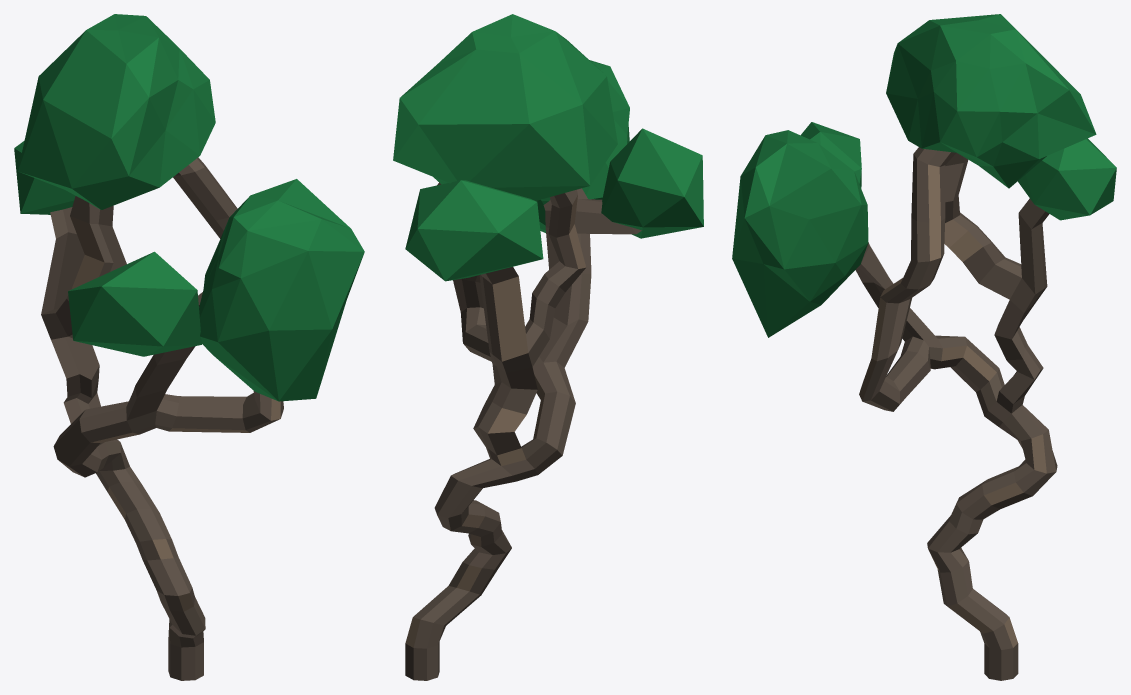
The model's file is tree2.fbx.
The picture shows the model from 3 angles, left to right: view 1: azimuth 30°, elevation 25°; view 2: azimuth 150°, elevation 25°; view 3: azimuth 270°, elevation 25°; orthographic projection. The views are drawn at different scales.
Parts seen in each view (by area): view 1: Cube; view 2: Cube; view 3: Cube.
Boxes of the visible parts, left/top/right/bottom form: Cube: left=14, top=14, right=364, bottom=680; Cube: left=393, top=14, right=703, bottom=680; Cube: left=732, top=14, right=1116, bottom=680.
Size of the model in its own units: 4.41 by 11.48 by 6.44.
